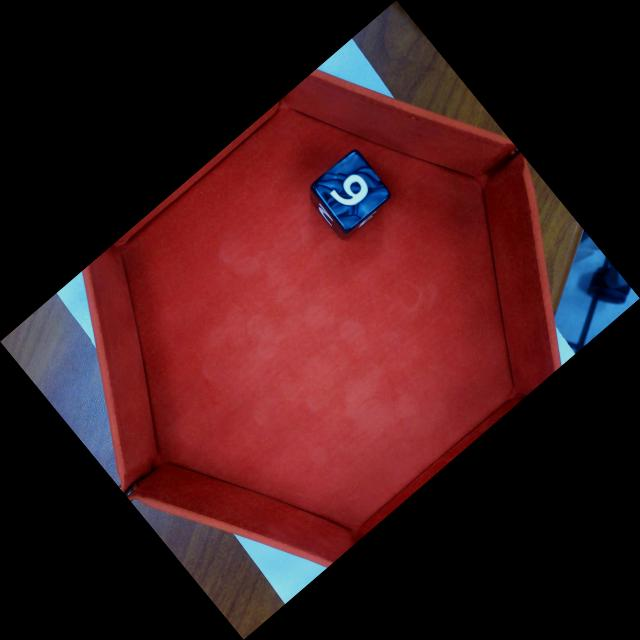dice: (319, 150, 386, 228)
